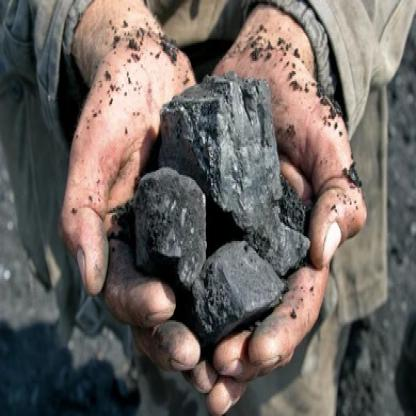Sedimentary_coal: (156, 63, 288, 228), (130, 162, 206, 295), (190, 243, 281, 335)
